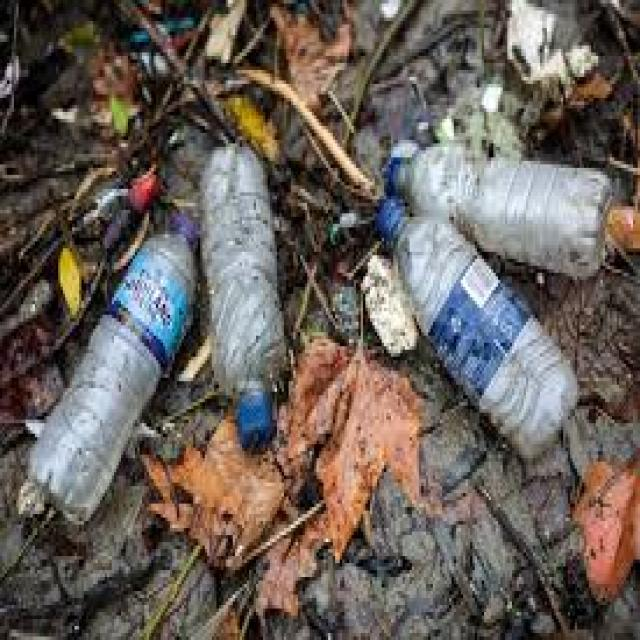plastic_bottle: (372, 192, 579, 458), (31, 216, 202, 511), (389, 135, 615, 260), (195, 142, 290, 437)
